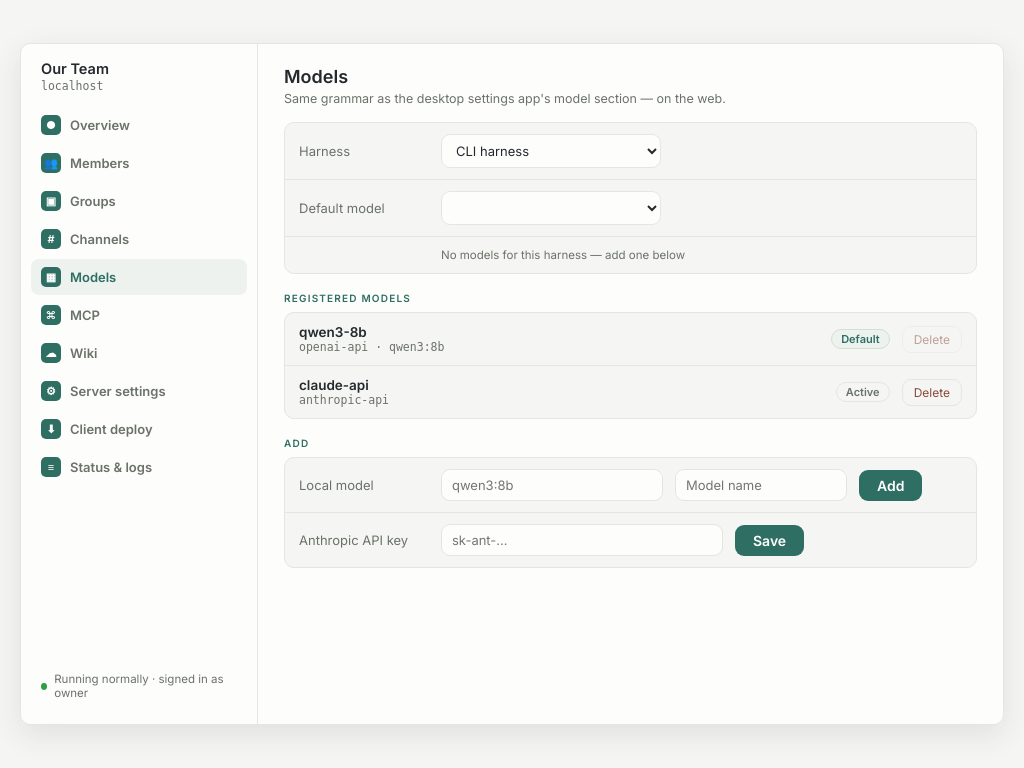
Test case: API 키 저장: 성공 후 입력칸이 비워지고, 재조회 응답에서 hasApiKey=true면 목록에 "API key set"이 보인다 — 키 원문은 어디에도 렌더되지 않는다
Expected: the text "claude-api" is shown, [299,377,369,393]
In the password field with placeholder "sk-ant-…": {"x": 582, "y": 540} [441,524,723,556], type "sk-ant-super-secret-value-12345"
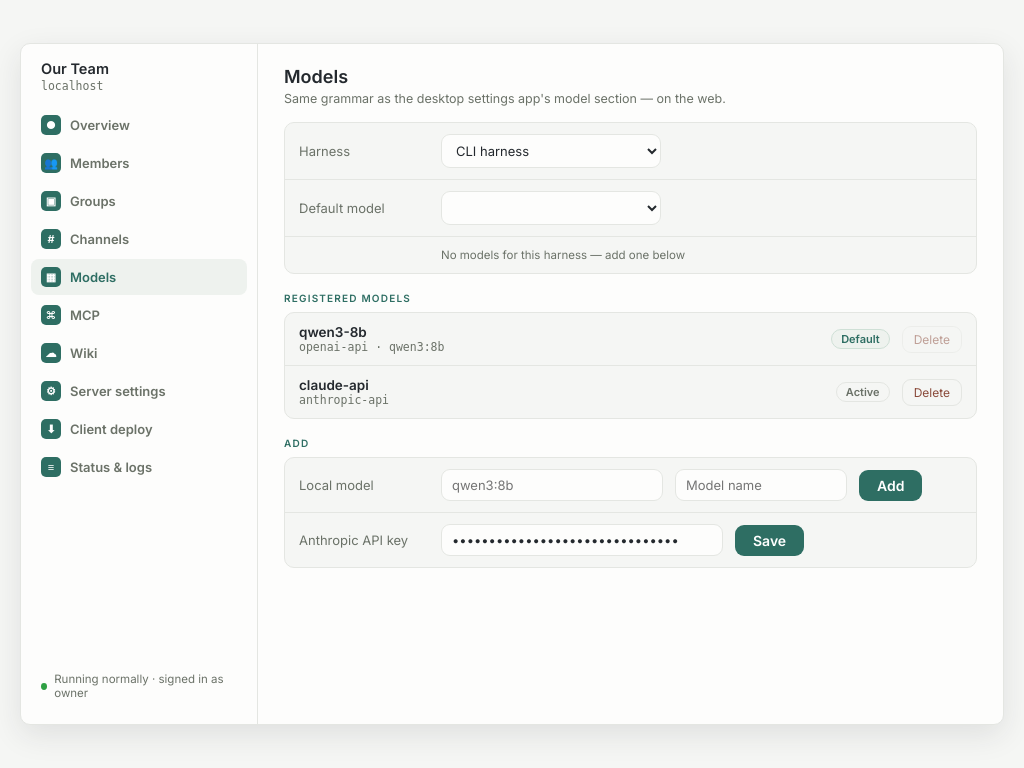
Click the button "Save": {"x": 770, "y": 540} [735,524,804,556]
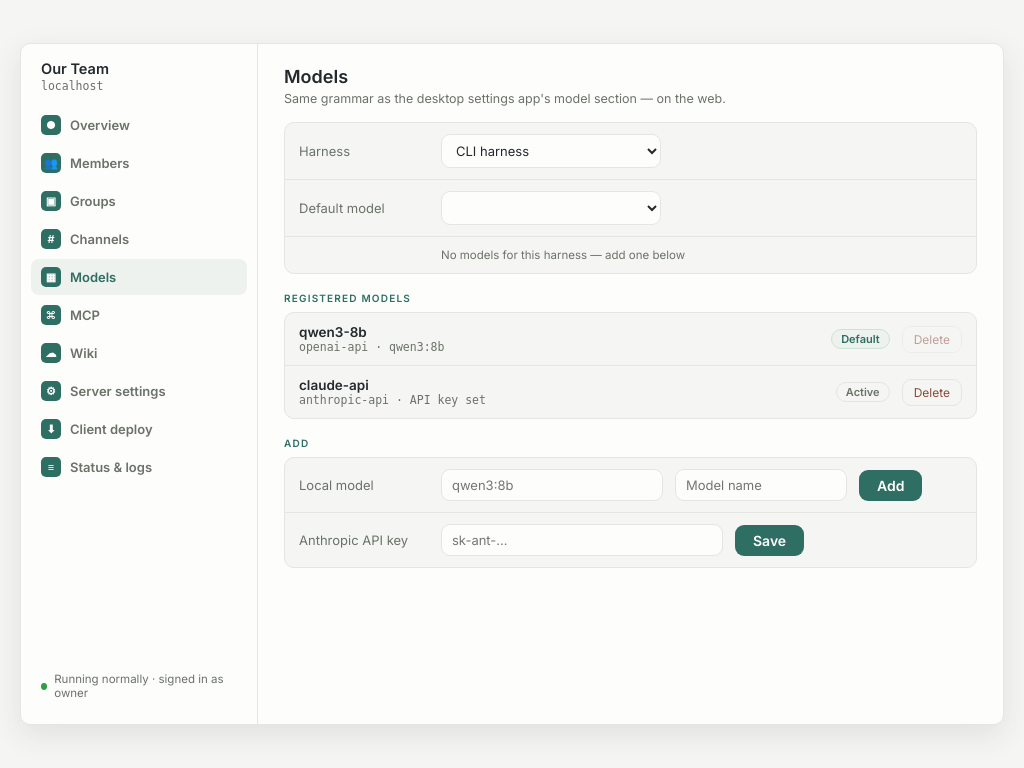
Expected: the text "anthropic-api · API key set" is shown, [299,393,486,407]
Expected: the password field with placeholder "sk-ant-…" is empty, [441,524,723,556]
